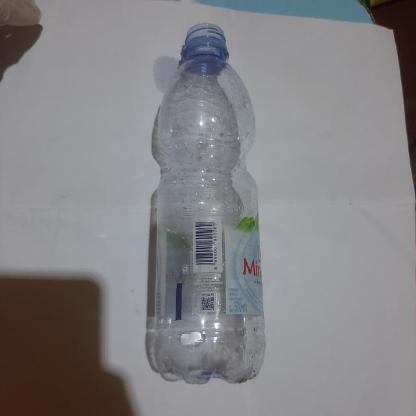Plastic Bottle: (129, 13, 301, 393)
